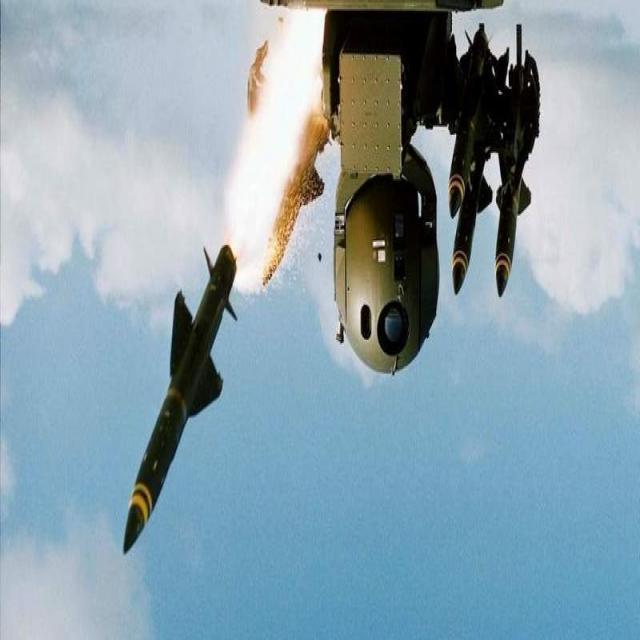missile: (107, 238, 247, 558), (447, 40, 517, 326), (496, 53, 558, 301)
